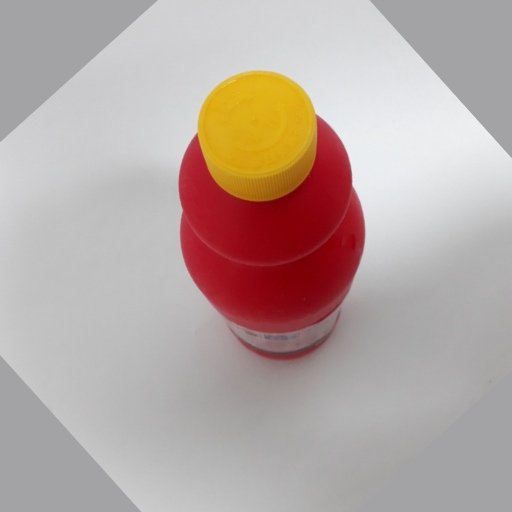Plastic_0: (171, 66, 366, 363)
